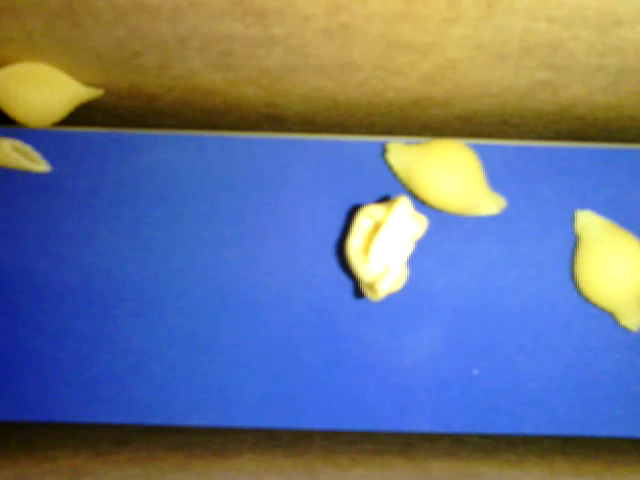penne: (1, 135, 54, 172)
shell: (382, 138, 507, 216), (571, 207, 639, 332), (1, 60, 105, 129)
tortellini: (344, 194, 429, 302)
